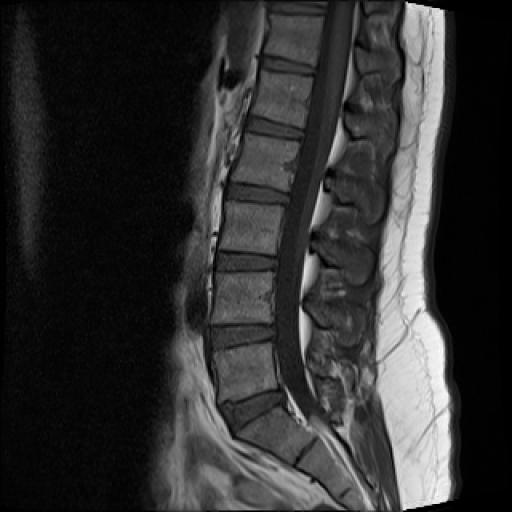L1: (251, 70, 313, 128)
L2: (231, 133, 300, 192)
L3: (219, 201, 284, 254)
L4: (212, 272, 272, 324)
L5: (212, 342, 278, 405)
S1: (237, 405, 314, 464)
